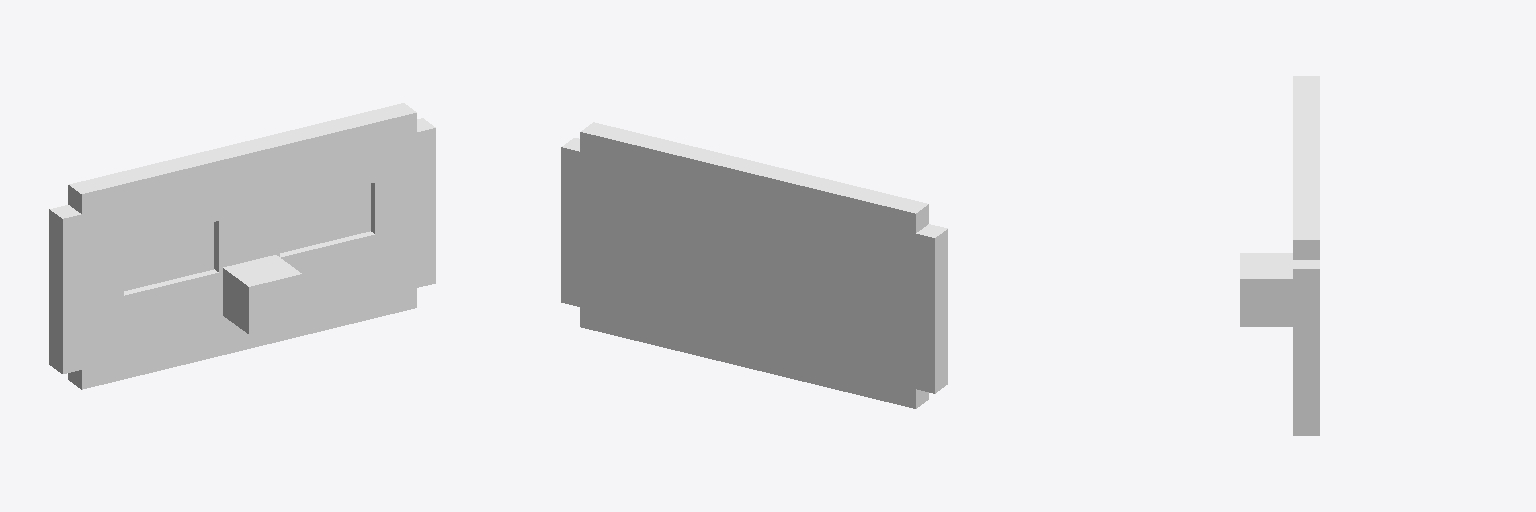
The model's file is ArlecchinoMask.obj.
The picture shows the model from 3 angles: view 1: azimuth 30°, elevation 25°; view 2: azimuth 150°, elevation 25°; view 3: azimuth 270°, elevation 25°; orthographic projection.
Visible parts, largest first — view 1: object 1; view 2: object 1; view 3: object 1.
Part boxes in pixels (bbox=[...]): object 1: bbox=[49, 103, 435, 389]; object 1: bbox=[561, 122, 947, 408]; object 1: bbox=[1240, 76, 1319, 435].
Bounding box in the file's own units: 9.8 × 4.9 × 1.8.